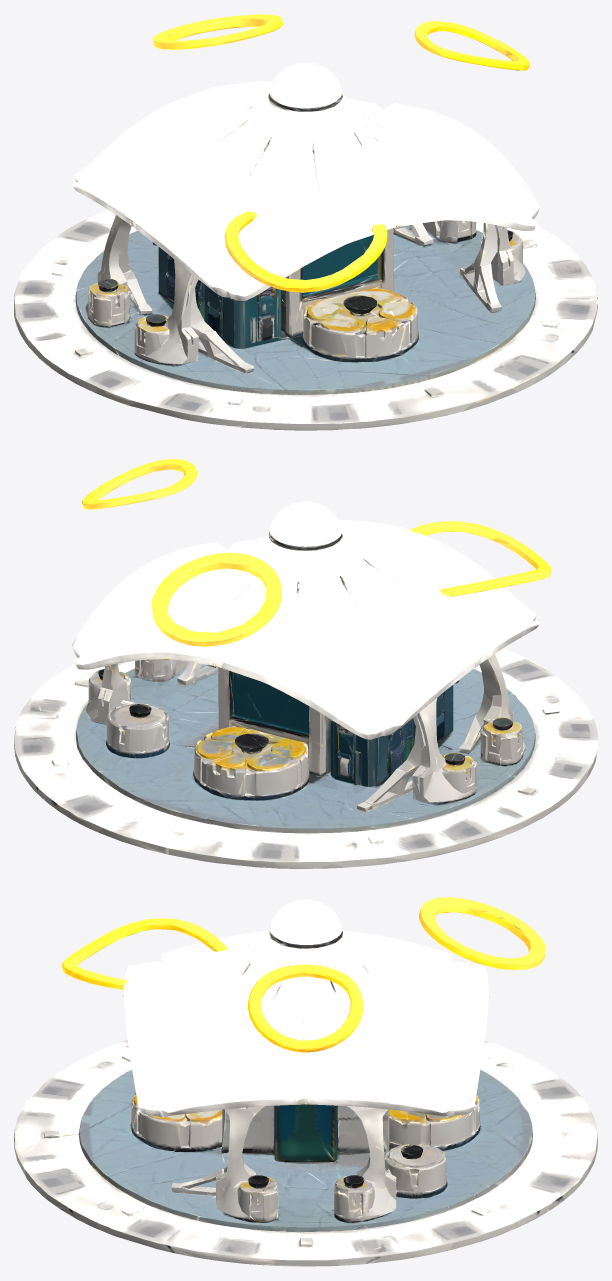
File: bld-holo-market-v2-mesh.glb
The picture shows the model from 3 angles, top to bottom: view 1: azimuth 30°, elevation 25°; view 2: azimuth 150°, elevation 25°; view 3: azimuth 270°, elevation 25°; orthographic projection.
Visible parts, largest first — view 1: Mesh_0; view 2: Mesh_0; view 3: Mesh_0.
Part boxes in pixels (x1,y1,x2,y2): Mesh_0: [14, 14, 597, 430]; Mesh_0: [14, 459, 597, 868]; Mesh_0: [14, 897, 597, 1266].
Bounding box in the file's own units: 1.9 × 0.8657 × 1.9.
1 material, 1 textured.
